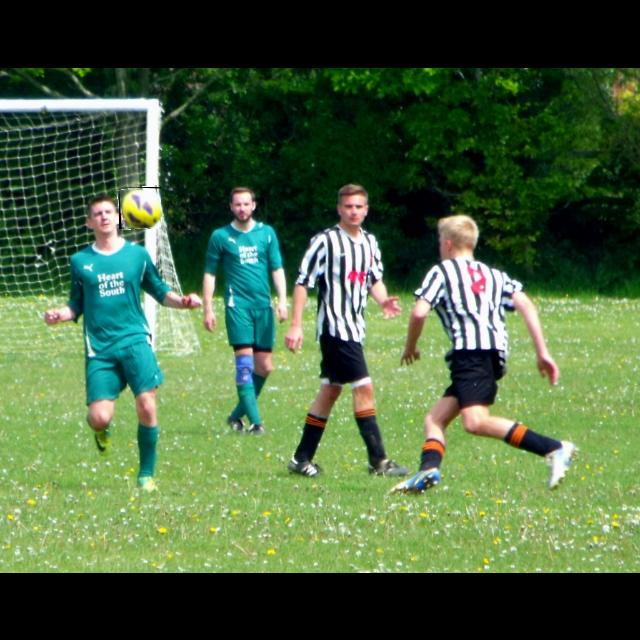Football: (119, 187, 161, 229)
